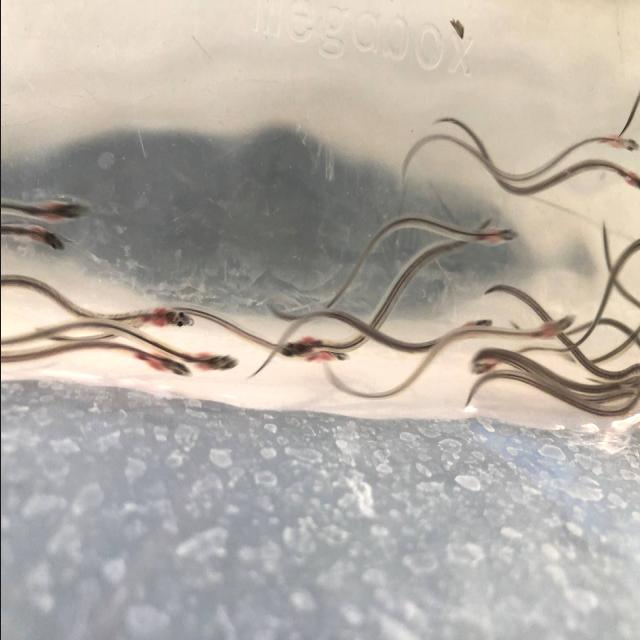glass_eel: (28, 190, 90, 228), (126, 304, 196, 334), (136, 344, 192, 380), (188, 346, 242, 379), (24, 220, 68, 258), (274, 332, 323, 362), (474, 222, 518, 253), (534, 310, 576, 340), (604, 128, 640, 160), (468, 348, 502, 379), (322, 338, 354, 370), (458, 315, 492, 337), (616, 162, 640, 192)
